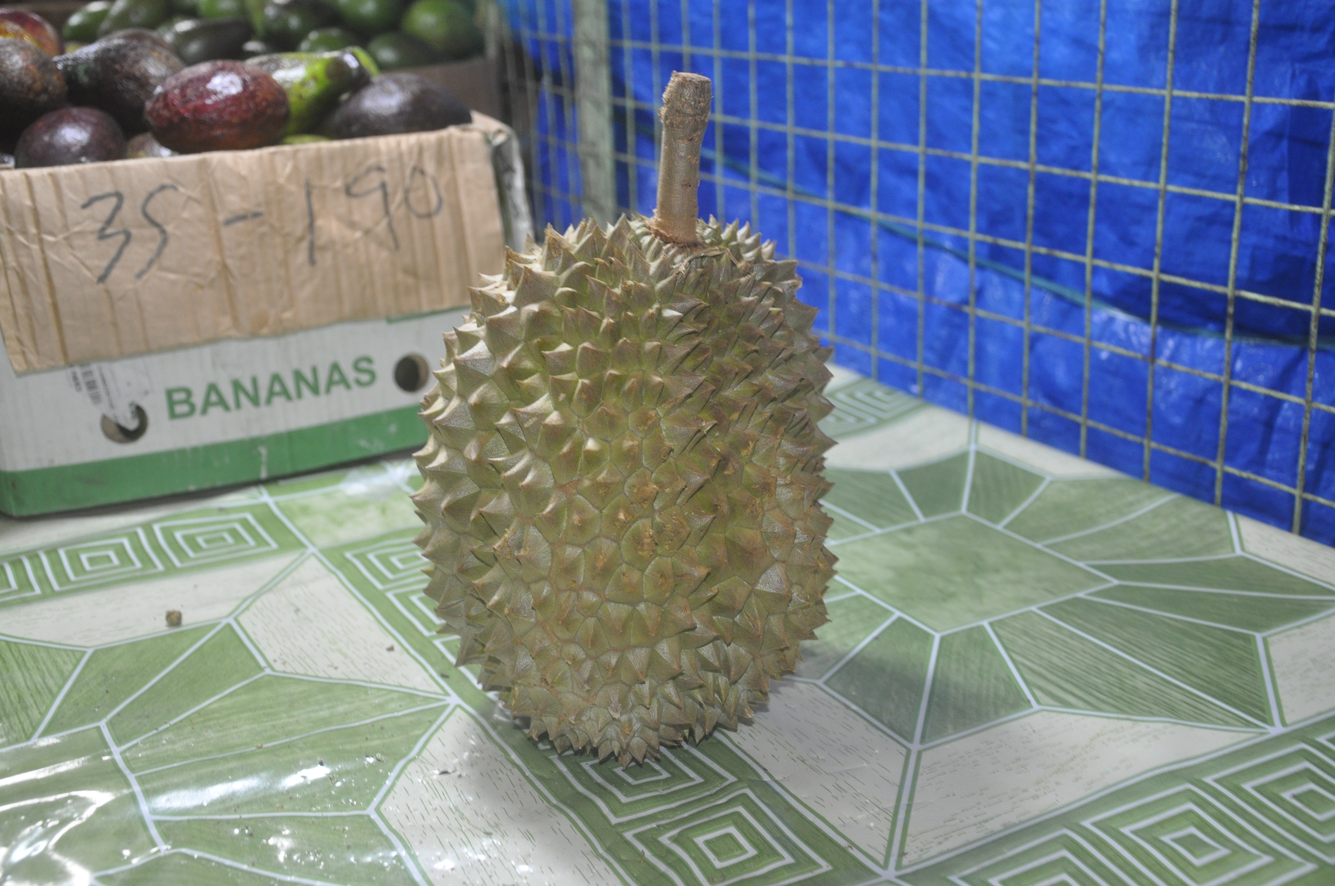mature: (411, 91, 893, 775)
